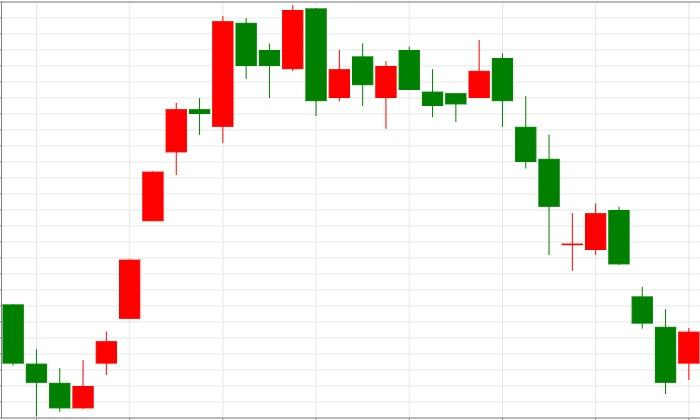morning_star_rise: (492, 54, 606, 272)
three_white_soldiers_rise: (2, 172, 164, 416)
